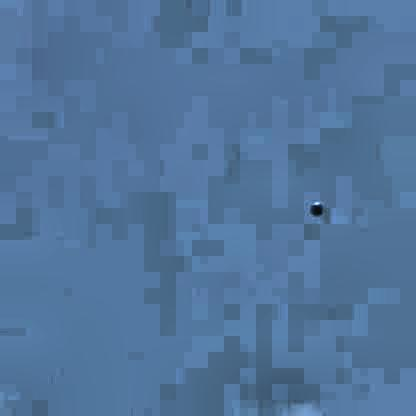golfball: (307, 197, 320, 213)
